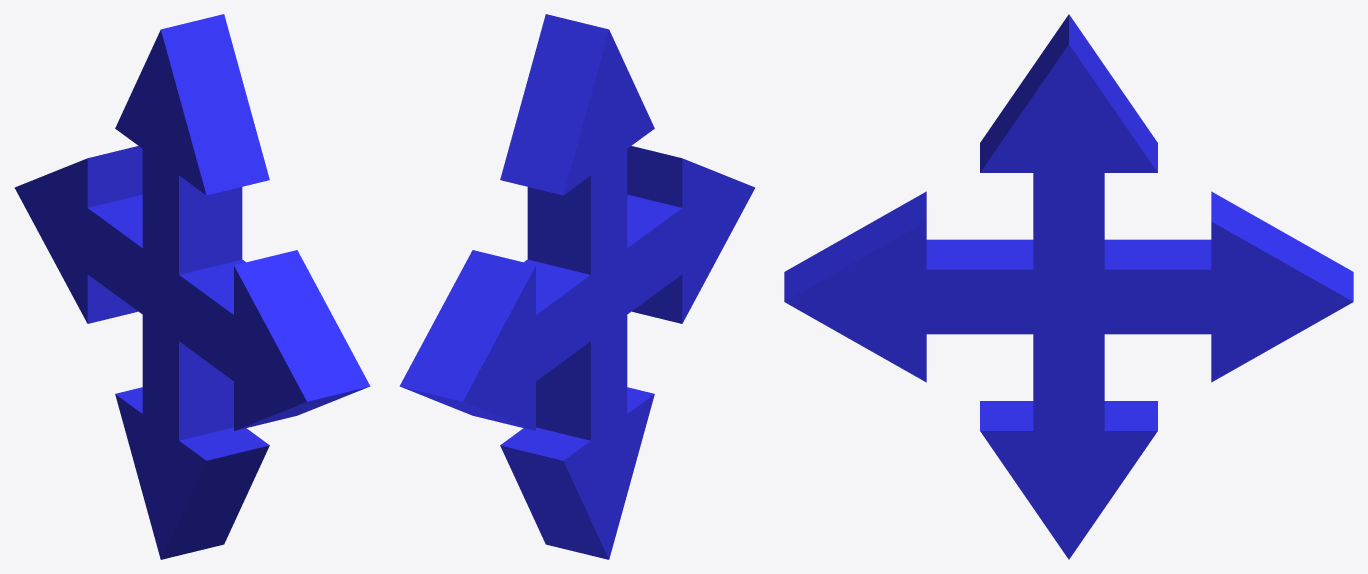
File: move.dae
The picture shows the model from 3 angles, left to right: view 1: azimuth 30°, elevation 25°; view 2: azimuth 150°, elevation 25°; view 3: azimuth 270°, elevation 25°; orthographic projection. The views are drawn at different scales.
Parts seen in each view (by area): view 1: group_0; view 2: group_0; view 3: group_0.
Part boxes in pixels (x1,y1,x2,y2): group_0: (14, 14, 370, 559); group_0: (399, 14, 755, 559); group_0: (784, 14, 1353, 559).
Bounding box in the file's own units: 0.125 × 1 × 1.
